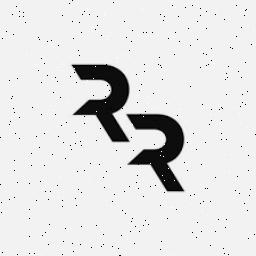r: (58, 54, 134, 146)
